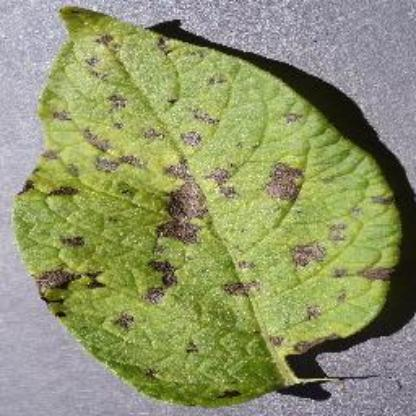Early-Blight: (12, 5, 416, 410)
